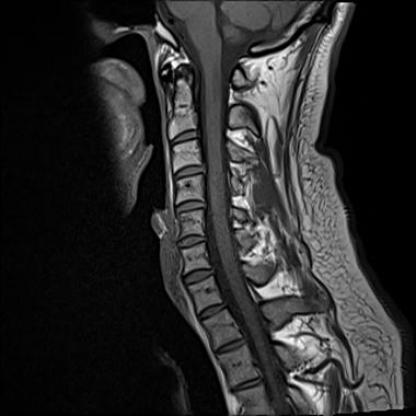Disc Bulgerotation: (181, 261, 214, 289), (174, 159, 206, 187)
